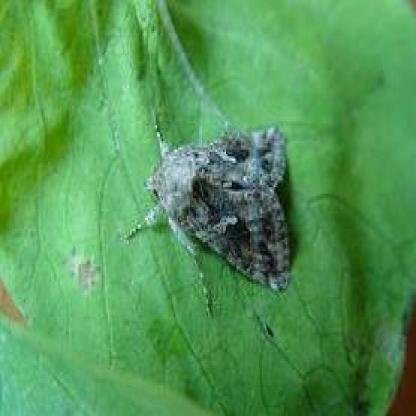armyworm: (126, 117, 297, 317)
